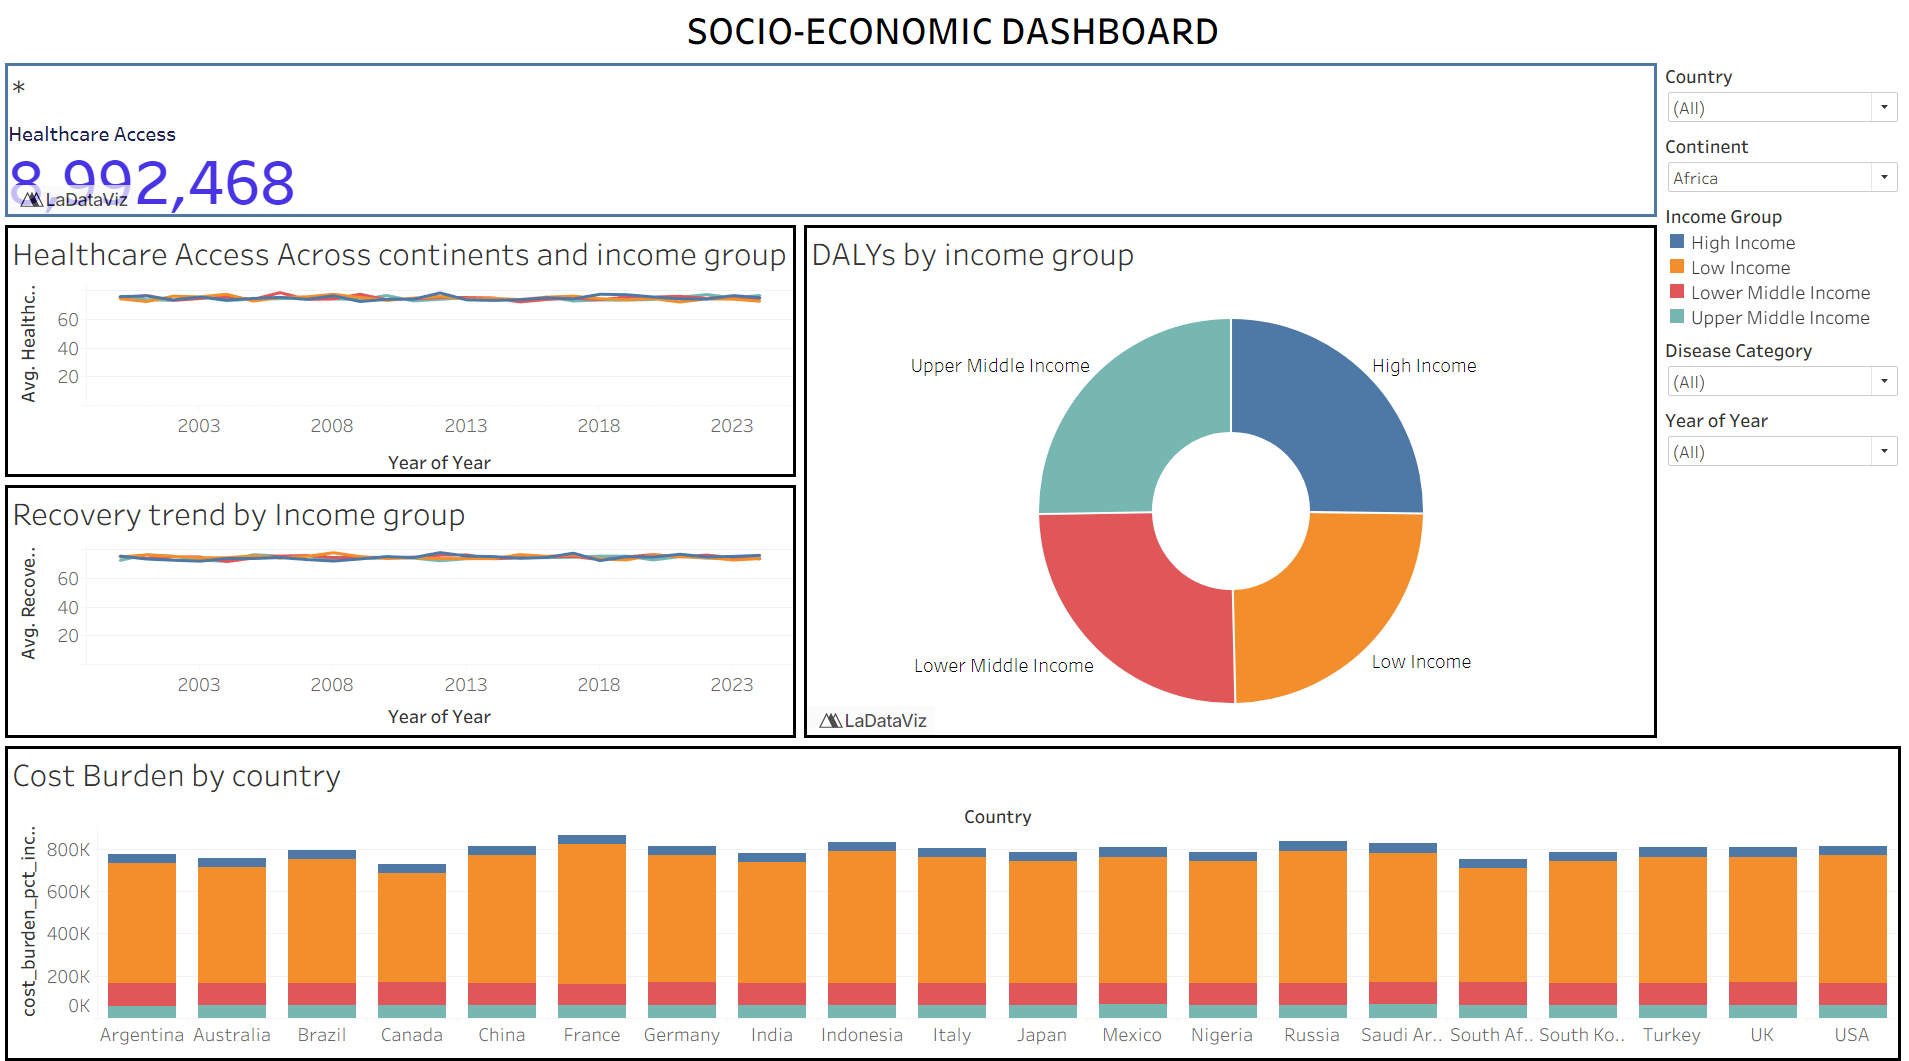

This screenshot's page, from the dashboard's own definition file:
{"tool":"tableau","page":{"name":"Socio-economic dashboard","canvas":[650,860],"ordinal":4},"visuals":[{"type":"worksheet","title":"Healthcare access KPI","box":[8,8,474,182]},{"type":"filter","title":"Healthcare access KPI","param":"[federated.0mcjdn40acfvmb1d8chxj1wd6kbu].[none:country:nk]","box":[482,8,160,70]},{"type":"filter","title":"Healthcare Access Across continents and income group","param":"[federated.0mcjdn40acfvmb1d8chxj1wd6kbu].[none:Calculation_2214082166921523212:n","box":[482,78,160,70]},{"type":"legend","title":"Healthcare Access Across continents and income group","param":"[federated.0mcjdn40acfvmb1d8chxj1wd6kbu].[none:Calculation_2214082235471032326:n","box":[482,148,160,134]},{"type":"worksheet","title":"Healthcare Access Across continents and income group","mark":"Line","rows":["healthcare_access"],"cols":["year"],"box":[8,190,237,134.5]},{"type":"worksheet","title":"DALYs by income group","box":[245,190,237,240]},{"type":"filter","title":"DALYs by income group","param":"[federated.0mcjdn40acfvmb1d8chxj1wd6kbu].[none:disease_category:nk]","box":[482,282,160,70]},{"type":"worksheet","title":"Recovery trend by Income group","mark":"Line","rows":["recovery_rate"],"cols":["year"],"box":[8,324.5,237,105.5]},{"type":"filter","title":"Cost Burden by country","param":"[federated.0mcjdn40acfvmb1d8chxj1wd6kbu].[yr:year:ok]","box":[482,352,160,70]},{"type":"worksheet","title":"Cost Burden by country","mark":"Automatic","rows":["Calculation_2214082235453894660"],"cols":["country"],"box":[8,430,634,422]}]}

Visuals, with their boxes on the page's 650x860 design canvas (x1, y1, x2, y2). These are canvas units, not pixel positions in the 1909x1061 screenshot, which may show the page scaled, cropped or inside an application window:
"Healthcare access KPI" worksheet: region(8, 8, 482, 190)
"Healthcare access KPI" filter: region(482, 8, 642, 78)
"Healthcare Access Across continents and income group" filter: region(482, 78, 642, 148)
"Healthcare Access Across continents and income group" legend: region(482, 148, 642, 282)
"Healthcare Access Across continents and income group" worksheet (Line marks): region(8, 190, 245, 324)
"DALYs by income group" worksheet: region(245, 190, 482, 430)
"DALYs by income group" filter: region(482, 282, 642, 352)
"Recovery trend by Income group" worksheet (Line marks): region(8, 324, 245, 430)
"Cost Burden by country" filter: region(482, 352, 642, 422)
"Cost Burden by country" worksheet: region(8, 430, 642, 852)
